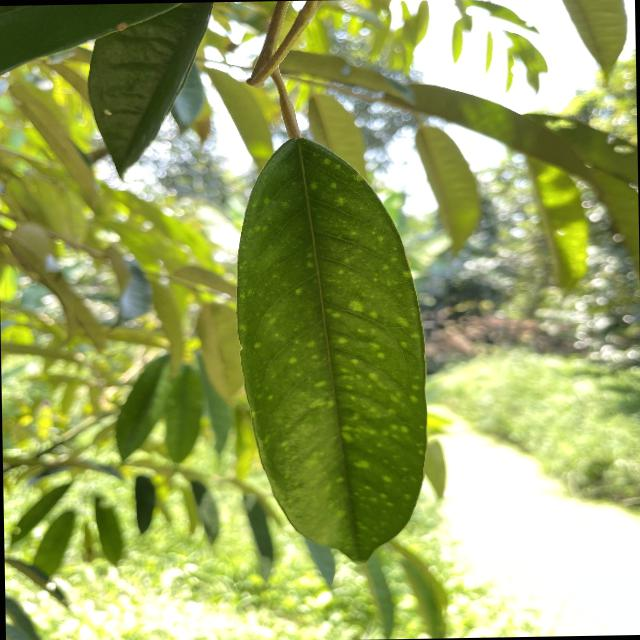Leaf Spot: (232, 133, 442, 574)
